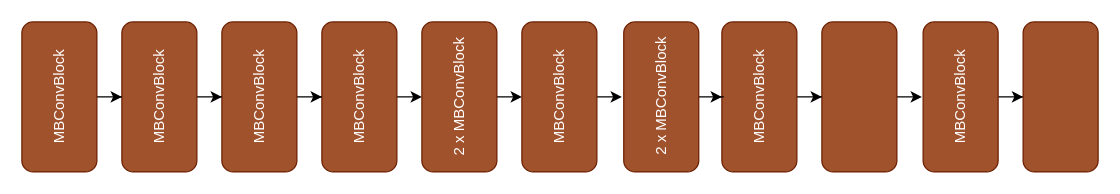
This 1120x194 diagram has some shape labels left out. Each missing label, with the centre of its shape:
"3 x MBConvBlock" belongs at pixel 859 96.
"Additional Layers" belongs at pixel 1060 96.
